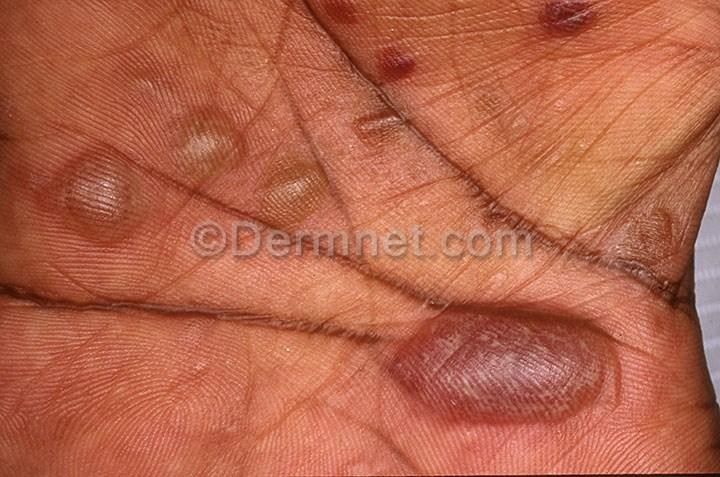Eczema: (385, 294, 640, 446), (31, 149, 161, 254), (151, 97, 257, 185), (595, 191, 686, 273), (245, 157, 339, 227), (348, 30, 451, 86), (339, 94, 427, 154), (521, 1, 620, 42), (292, 0, 382, 28)
